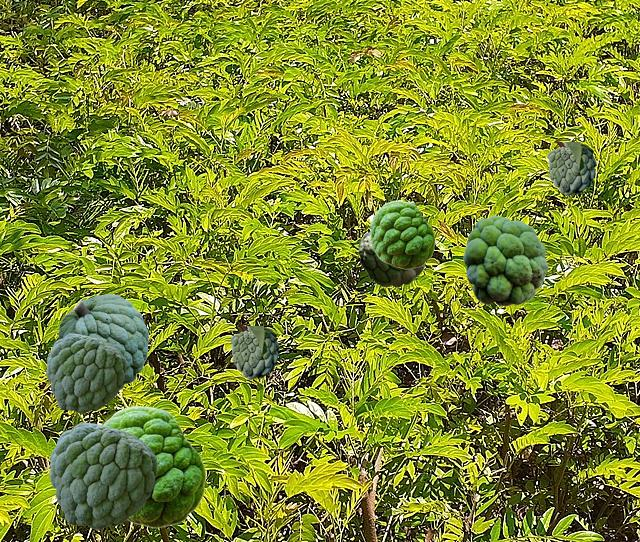atis: (103, 405, 205, 527), (49, 422, 156, 528), (58, 294, 147, 389), (463, 215, 547, 305), (46, 333, 125, 412), (370, 200, 434, 268), (547, 142, 621, 194), (230, 326, 304, 378), (358, 231, 425, 286)
